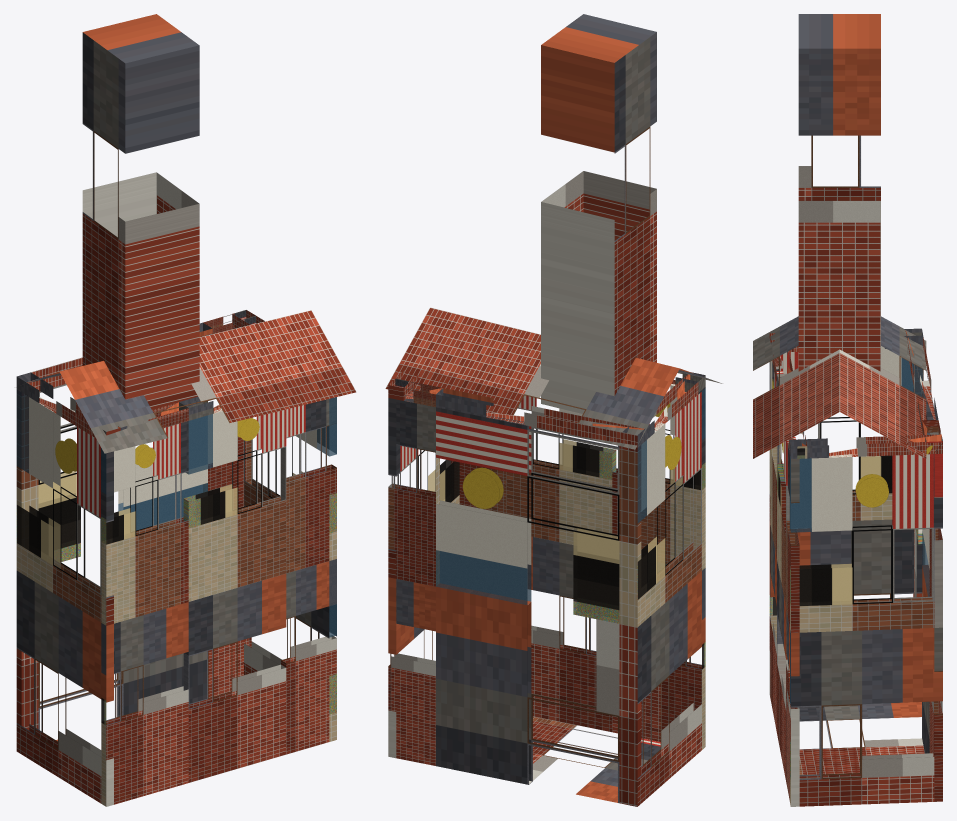
3 views of the same model, side by side, from view 1: azimuth 30°, elevation 25°; view 2: azimuth 150°, elevation 25°; view 3: azimuth 270°, elevation 25° (orthographic). The views are drawn at different scales.
Parts seen in each view (by area): view 1: 534916386__chimney_0_xb, 534916386__wall_5_xb, 534916386__wall_3_xb, 534916386__wall_4_xb, 534916386_roof_-1_xb, 534916386__wall_6_xb, 534916386__wall_2_xb, 534916386__wall_0_xb, 534916386__wall_2_xf, 534916386__wall_1_xb, 534916386__wall_5_xf, 534916386__wall_3_xf (+5 smaller); view 2: 534916386__wall_2_xb, 534916386__chimney_0_xb, 534916386__wall_3_xb, 534916386__wall_5_xb, 534916386_roof_1_xb, 534916386__wall_1_xb, 534916386__wall_4_xb, 534916386__wall_2_xf, 534916386__wall_0_xb, 534916386__cornice_2, 534916386__base, 534916386__wall_3_xf (+6 smaller); view 3: 534916386__wall_0_xb, 534916386__chimney_0_xb, 534916386__wall_3_xb, 534916386_roof_-1_xb, 534916386_roof_1_xb, 534916386__base, 534916386__wall_6_xb, 534916386__wall_0_xf, 534916386__wall_1_xb, 534916386__wall_5_xb, 534916386__wall_4_xb, 534916386__cornice_0 (+3 smaller).
Part boxes in pixels (left/top/right/bottom): 534916386__chimney_0_xb: left=82, top=14, right=199, bottom=409; 534916386__wall_5_xb: left=183, top=408, right=286, bottom=782; 534916386__wall_3_xb: left=16, top=390, right=113, bottom=806; 534916386__wall_4_xb: left=101, top=421, right=188, bottom=806; 534916386_roof_-1_xb: left=60, top=310, right=356, bottom=453; 534916386__wall_6_xb: left=281, top=397, right=336, bottom=754; 534916386__wall_2_xb: left=16, top=384, right=207, bottom=730; 534916386__wall_0_xb: left=244, top=397, right=336, bottom=741; 534916386__wall_2_xf: left=39, top=471, right=207, bottom=561; 534916386__wall_1_xb: left=208, top=436, right=251, bottom=697; 534916386__wall_5_xf: left=184, top=414, right=236, bottom=527; 534916386__wall_3_xf: left=17, top=390, right=60, bottom=564; 534916386__wall_2_xb: left=436, top=407, right=641, bottom=806; 534916386__chimney_0_xb: left=541, top=14, right=656, bottom=413; 534916386__wall_3_xb: left=637, top=389, right=705, bottom=806; 534916386__wall_5_xb: left=506, top=395, right=616, bottom=732; 534916386_roof_1_xb: left=385, top=307, right=679, bottom=449; 534916386__wall_1_xb: left=388, top=399, right=435, bottom=765; 534916386__wall_4_xb: left=612, top=384, right=705, bottom=749; 534916386__wall_2_xf: left=436, top=529, right=618, bottom=622; 534916386__wall_0_xb: left=388, top=398, right=459, bottom=758; 534916386__cornice_2: left=436, top=388, right=644, bottom=447; 534916386__base: left=529, top=716, right=660, bottom=802; 534916386__wall_3_xf: left=638, top=440, right=664, bottom=598; 534916386__wall_0_xb: left=790, top=454, right=942, bottom=806; 534916386__chimney_0_xb: left=798, top=14, right=880, bottom=371; 534916386__wall_3_xb: left=769, top=346, right=922, bottom=696; 534916386_roof_-1_xb: left=753, top=316, right=839, bottom=458; 534916386_roof_1_xb: left=839, top=316, right=926, bottom=458; 534916386__base: left=799, top=702, right=924, bottom=775; 534916386__wall_6_xb: left=786, top=436, right=799, bottom=806; 534916386__wall_0_xf: left=790, top=457, right=891, bottom=776; 534916386__wall_1_xb: left=929, top=432, right=942, bottom=801; 534916386__wall_5_xb: left=777, top=441, right=789, bottom=781; 534916386__wall_4_xb: left=769, top=356, right=785, bottom=732; 534916386__cornice_0: left=789, top=434, right=942, bottom=458.
Bounding box in the file's own units: 0.51 × 1.4 × 0.3464.
1 material, 1 textured.
